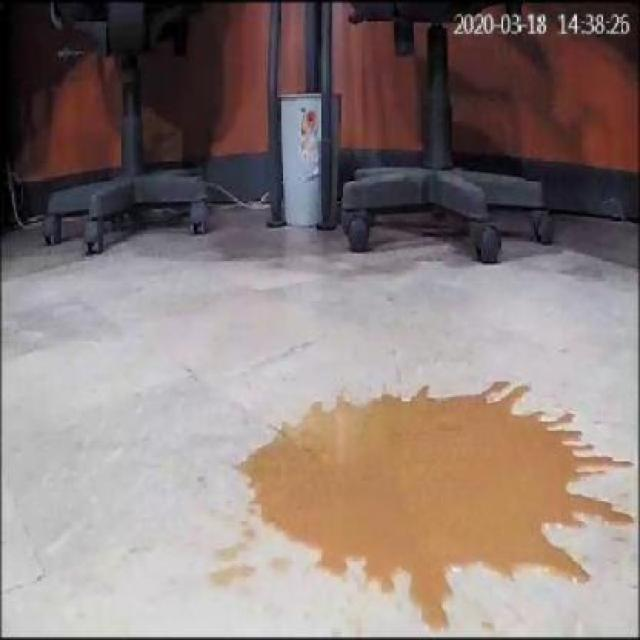spillage: (229, 380, 632, 632)
